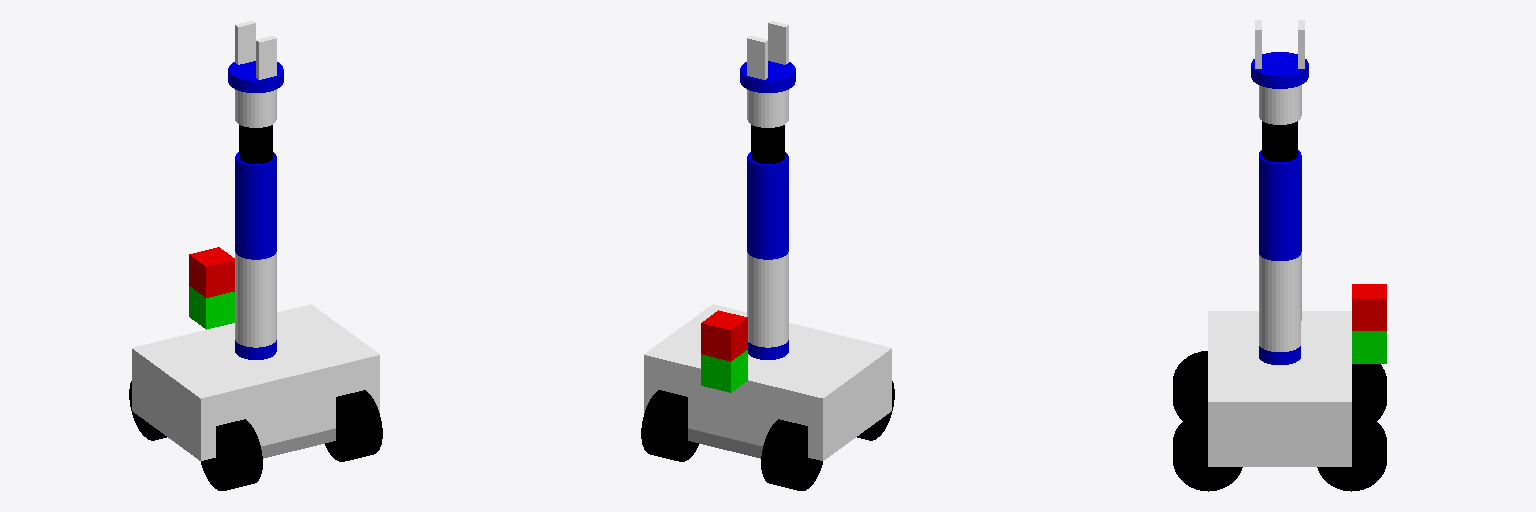
--- Facts derived from the render (not from the file) ---
The picture shows the robot from 3 angles, left to right: view 1: azimuth 30°, elevation 25°; view 2: azimuth 150°, elevation 25°; view 3: azimuth 270°, elevation 25°; orthographic projection.
Model marm with 20 links and 19 joints (6 revolute, 2 prismatic, 11 fixed), rooted at base_link, posed all joints at 0.
Visible links, largest first — view 1: base_link, link3, link2, wheel_4, wheel_3, camera_link1, imu_link, link5, link4, link6, bottom_link, gripper_finger_link1 (+2 smaller); view 2: base_link, link3, link2, wheel_2, wheel_1, camera_link1, imu_link, link5, link4, link6, bottom_link, gripper_finger_link2 (+1 smaller); view 3: base_link, link3, link2, wheel_1, wheel_3, wheel_4, wheel_2, link6, camera_link1, link5, link4, imu_link (+1 smaller).
Link boxes in pixels (box(x1,y1,x2,y2)): base_link: box(132, 304, 379, 460); link3: box(235, 152, 276, 259); link2: box(235, 252, 276, 347); wheel_4: box(201, 419, 262, 490); wheel_3: box(325, 390, 382, 461); camera_link1: box(189, 247, 234, 297); imu_link: box(189, 286, 234, 329); link5: box(235, 89, 276, 127); link4: box(239, 125, 272, 163); link6: box(228, 61, 283, 92); bottom_link: box(261, 428, 335, 458); gripper_finger_link1: box(235, 21, 255, 64); base_link: box(644, 304, 891, 460); link3: box(747, 152, 788, 259); link2: box(747, 252, 788, 347); wheel_2: box(761, 419, 822, 490); wheel_1: box(641, 390, 698, 461); camera_link1: box(701, 310, 747, 361); imu_link: box(701, 350, 747, 392); link5: box(747, 90, 788, 127); link4: box(751, 125, 784, 163); link6: box(740, 61, 795, 92); bottom_link: box(688, 428, 762, 458); gripper_finger_link2: box(768, 21, 788, 64); base_link: box(1208, 311, 1351, 466); link3: box(1259, 150, 1301, 260); link2: box(1259, 252, 1301, 351); wheel_1: box(1317, 412, 1386, 491); wheel_3: box(1173, 412, 1242, 491); wheel_4: box(1173, 351, 1207, 420); wheel_2: box(1352, 364, 1386, 420); link6: box(1251, 52, 1308, 88); camera_link1: box(1352, 284, 1386, 330); link5: box(1259, 85, 1301, 124); link4: box(1262, 121, 1297, 161); imu_link: box(1352, 331, 1386, 363).
Bounding box of the posed robot: 0.3002 × 0.3 × 0.66 m (x, y, z).
Meshes: 2 distinct files referenced, 0 mesh visuals loaded (none loaded); not drawn: 2 (reference not matched to a file when rendering).

robot.urdf — marm:
<?xml version="1.0" ?>
<robot name="marm">
    <!-- /////////////////////////////////////    Wheel    ///////////////////////////////////////////// -->
    <link name="wheel_1">
        <visual>
            <geometry>
                <cylinder length="0.05" radius="0.05" />
            </geometry>
            <origin rpy="0 1.57 0" xyz="0.1 0.1 0" />
            <material name="black">
                <color rgba="0 0 0 1" />
            </material>
        </visual>
    </link>
    <link name="wheel_2">
        <visual>
            <geometry>
                <cylinder length="0.05" radius="0.05" />
            </geometry>
            <origin rpy="0 1.57 0" xyz="-0.1 0.1 0" />
            <material name="black">
                <color rgba="0 0 0 1" />
            </material>
        </visual>
    </link>
    <link name="wheel_3">
        <visual>
            <geometry>
                <cylinder length="0.05" radius="0.05" />
            </geometry>
            <origin rpy="0 1.57 0" xyz="0.1 -0.1 0" />
            <material name="black">
                <color rgba="0 0 0 1" />
            </material>
        </visual>
    </link>
    <link name="wheel_4">
        <visual>
            <geometry>
                <cylinder length="0.05" radius="0.05" />
            </geometry>
            <origin rpy="0 1.57 0" xyz="-0.1 -0.1 0" />
            <material name="black">
                <color rgba="0 0 0 1" />
            </material>
        </visual>
    </link>
    <joint name="base_to_wheel1" type="fixed">
        <parent link="base_link" />
        <child link="wheel_1" />
        <origin xyz="0 0 0" />
    </joint>
    <joint name="base_to_wheel2" type="fixed">
        <parent link="base_link" />
        <child link="wheel_2" />
        <origin xyz="0 0 0" />
    </joint>
    <joint name="base_to_wheel3" type="fixed">
        <parent link="base_link" />
        <child link="wheel_3" />
        <origin xyz="0 0 0" />
    </joint>
    <joint name="base_to_wheel4" type="fixed">
        <parent link="base_link" />
        <child link="wheel_4" />
        <origin xyz="0 0 0" />
    </joint>
    <!--<link name="dummy" />
    <joint name="dummy_joint" type="fixed">
        <parent link="dummy" />
        <child link="base_link" />
    </joint>-->
    <!-- IMU joint -->
    <joint name="imu_joint" type="fixed">
        <axis xyz="0 1 0" />
        <origin xyz="0 0.125 0.125" rpy="0 0 0" />
        <parent link="base_link" />
        <child link="imu_link" />
    </joint>
    <!-- IMU -->
    <link name="imu_link">
        <collision>
            <origin xyz="0 0 0" rpy="0 0 0" />
            <geometry>
                <box size="0.05 0.05 0.05" />
            </geometry>
        </collision>
        <visual>
            <origin xyz="0 0 0" rpy="0 0 0" />
            <geometry>
                <box size="0.05 0.05 0.05" />
            </geometry>
            <material name="green">
                <color rgba="0 1 0 1" />
            </material>
        </visual>
        
<inertial>
            <mass value="1e-2" />
            <origin xyz="0 0 0" rpy="0 0 0" />
            <inertia ixx="1e-6" ixy="0" ixz="0" iyy="1e-6" iyz="0" izz="1e-6" />
        </inertial>

    </link>
    <!-- IMU -->
    <!-- Camera joint -->
    <joint name="camera_joint1" type="fixed">
        <axis xyz="0 1 0" />
        <origin xyz="0 0.125 0.175" rpy="0 0 0" />
        <parent link="base_link" />
        <child link="camera_link1" />
    </joint>
    <!-- Camera -->
    <link name="camera_link1">
        <collision>
            <origin xyz="0 0 0" rpy="0 0 0" />
            <geometry>
                <box size="0.05 0.05 0.05" />
            </geometry>
        </collision>
        <visual>
            <origin xyz="0 0 0" rpy="0 0 0" />
            <geometry>
                <box size="0.05 0.05 0.05" />
            </geometry>
            <material name="red">
                <color rgba="1 0 0 1" />
            </material>
        </visual>
        
<inertial>
            <mass value="1e-2" />
            <origin xyz="0 0 0" rpy="0 0 0" />
            <inertia ixx="1e-6" ixy="0" ixz="0" iyy="1e-6" iyz="0" izz="1e-6" />
        </inertial>

    </link>
    <!-- camera -->
    <!-- Hokuyo joint -->
    <joint name="hokuyo_joint" type="fixed">
        <origin xyz="0 0.125 0.225" rpy="0 0 0" />
        <parent link="base_link" />
        <axis xyz="0 1 0" />
        <child link="laser_frame" />
    </joint>
    <!-- Hokuyo Laser -->
    <link name="laser_frame">
        <collision>
            <origin xyz="0 0 0" rpy="0 0 0" />
            <geometry>
                <box size="0.05 0.05 0.05" />
            </geometry>
        </collision>
        <visual>
            <origin xyz="0 0 0" rpy="0 0 0" />
            <geometry>
                <mesh filename="package://marm_description/meshes/hokuyo.dae" />
            </geometry>
        </visual>
        
<inertial>
            <mass value="1e-2" />
            <origin xyz="0 0 0" rpy="0 0 0" />
            <inertia ixx="1e-6" ixy="0" ixz="0" iyy="1e-6" iyz="0" izz="1e-6" />
        </inertial>

    </link>
    <!-- hokuyo -->
    <!-- gazebo插件设置相关 -->
    
    <gazebo reference="wheel_1">
        <material>Gazebo/Red</material>
    </gazebo>
    <gazebo reference="wheel_2">
        <material>Gazebo/Black</material>
    </gazebo>
    <gazebo reference="wheel_3">
        <material>Gazebo/Red</material>
    </gazebo>
    <gazebo reference="wheel_4">
        <material>Gazebo/Black</material>
    </gazebo>
    <!-- ros_control plugin -->
    <!--   <gazebo>
    <plugin name="gazebo_ros_control" filename="libgazebo_ros_control.so">
      <robotNamespace>/robot</robotNamespace>
       <legacyModeNS> true </legacyModeNS>   
    </plugin>
  </gazebo> -->
    <!-- camera_link -->
    <gazebo reference="camera_link1">
        <material>Gazebo/Red</material>
    </gazebo>
    <!-- hokuyo -->
    <gazebo reference="laser_frame">
        <sensor type="ray" name="head_hokuyo_sensor">
            <!-- <sensor type="gpu_ray" name="head_hokuyo_sensor">   -->
            <!-- GPU -->
            <pose>0 0 0 0 0 0</pose>
            <visualize>false</visualize>
            <update_rate>15</update_rate>
            <ray>
                <scan>
                    <horizontal>
                        <samples>720</samples>
                        <resolution>1</resolution>
                        <min_angle>-3.1415926</min_angle>
                        <max_angle>3.1415926</max_angle>
                    </horizontal>
                </scan>
                <range>
                    <min>0.05</min>
                    <max>30.0</max>
                    <resolution>0.01</resolution>
                </range>
                <noise>
                    <type>gaussian</type>
                    <!-- Noise parameters based on published spec for Hokuyo laser
               achieving "+-30mm" accuracy at range < 10m.  A mean of 0.0m and
               stddev of 0.01m will put 99.7% of samples within 0.03m of the true
               reading. -->
                    <mean>0.0</mean>
                    <stddev>0.01</stddev>
                </noise>
            </ray>
            <!-- GPU版本 -->
            <!-- <plugin name="gazebo_ros_head_hokuyo_controller" filename="libgazebo_ros_gpu_laser.so">  -->
            <plugin name="gazebo_ros_head_hokuyo_controller" filename="libgazebo_ros_laser.so">
                <topicName>scan</topicName>
                <frameName>laser_frame</frameName>
            </plugin>
        </sensor>
    </gazebo>
    <!-- camera -->
    <gazebo reference="camera_link1">
        <sensor type="camera" name="camera1">
            <update_rate>30.0</update_rate>
            <camera name="head">
                <horizontal_fov>1.3962634</horizontal_fov>
                <image>
                    <width>1920</width>
                    <height>1080</height>
                    <format>R8G8B8</format>
                </image>
                <clip>
                    <near>0.02</near>
                    <far>300</far>
                </clip>
                <noise>
                    <type>gaussian</type>
                    <!-- Noise is sampled independently per pixel on each frame.  
               That pixel's noise value is added to each of its color
               channels, which at that point lie in the range [0,1]. -->
                    <mean>0.0</mean>
                    <stddev>0.007</stddev>
                </noise>
            </camera>
            <plugin name="camera_controller" filename="libgazebo_ros_camera.so">
                <alwaysOn>true</alwaysOn>
                <updateRate>0.0</updateRate>
                <cameraName>/</cameraName>
                <imageTopicName>cam</imageTopicName>
                <cameraInfoTopicName>camera_info</cameraInfoTopicName>
                <frameName>camera_link1</frameName>
                <hackBaseline>0.07</hackBaseline>
                <distortionK1>0.0</distortionK1>
                <distortionK2>0.0</distortionK2>
                <distortionK3>0.0</distortionK3>
                <distortionT1>0.0</distortionT1>
                <distortionT2>0.0</distortionT2>
            </plugin>
        </sensor>
    </gazebo>
    <!-- Drive controller -->
    <gazebo>
        <plugin name="skid_steer_drive_controller" filename="libgazebo_ros_skid_steer_drive.so">
            <alwaysOn>true</alwaysOn>
            <updateRate>100.0</updateRate>
            <robotNamespace />
            <leftFrontJoint>base_to_wheel1</leftFrontJoint>
            <rightFrontJoint>base_to_wheel3</rightFrontJoint>
            <leftRearJoint>base_to_wheel2</leftRearJoint>
            <rightRearJoint>base_to_wheel4</rightRearJoint>
            <wheelSeparation>0.26</wheelSeparation>
            <wheelDiameter>0.12</wheelDiameter>
            <torque>2</torque>
            <commandTopic>cmd_vel</commandTopic>
            <odometryTopic>odom</odometryTopic>
            <odometryFrame>odom</odometryFrame>
            <robotBaseFrame>base_link</robotBaseFrame>
            <broadcastTF>1</broadcastTF>
        </plugin>
    </gazebo>
    <!-- imu控制 -->

   <gazebo reference="imu_link">
        <material>Gazebo/Orange</material>
        <gravity>true</gravity>
        <sensor name="imu_sensor" type="imu">
            <always_on>true</always_on>
            <update_rate>100</update_rate>
            <visualize>true</visualize>
            <topic>__default_topic__</topic>
            <plugin filename="libgazebo_ros_imu_sensor.so" name="imu_plugin">
                <topicName>imu</topicName>
                <bodyName>imu_link</bodyName>
                <updateRateHZ>100.0</updateRateHZ>
                <gaussianNoise>0.0</gaussianNoise>
                <xyzOffset>0 0 0</xyzOffset>
                <rpyOffset>0 0 0</rpyOffset>
                <frameName>imu_link</frameName>
            </plugin>
            <pose>0 0 0 0 0 0</pose>
        </sensor>
    </gazebo>

 <!-- /////////////////////////////////////    COLOR    ///////////////////////////////////////////// -->
    <material name="Black">
        <color rgba="0 0 0 1" />
    </material>
    <material name="White">
        <color rgba="1 1 1 1" />
    </material>
    <material name="Blue">
        <color rgba="0 0 1 1" />
    </material>
    <material name="Red">
        <color rgba="1 0 0 1" />
    </material>
    <joint name="bottom_joint" type="fixed">
        <origin xyz="0 0 0" rpy="0 0 0" />
        <parent link="base_link" />
        <child link="bottom_link" />
    </joint>
    <link name="bottom_link">
        <visual>
            <origin xyz=" 0 0 -0.01" rpy="0 0 0" />
            <geometry>
                <box size="0.2 0.2 0.02" />
            </geometry>
            <material name="Brown" />
        </visual>
        <collision>
            <origin xyz=" 0 0 -0.01" rpy="0 0 0" />
            <geometry>
                <box size="0.2 0.2 0.02" />
            </geometry>
        </collision>
        <inertial>
            <mass value="50" />
            <inertia ixx="1.0" ixy="0.0" ixz="0.0" iyy="0.5" iyz="0.0" izz="1.0" />
        </inertial>

    </link>
    <!-- /////////////////////////////////////    BASE    ///////////////////////////////////////////// -->
    <link name="base_link">
        <visual>
            <origin rpy="0 0 1.57" xyz="0 0 0.05" />
            <geometry>
                <box size="0.2 .3 .1"/>
            </geometry>
            <material name="White" />
        </visual>
        <collision>
            <origin rpy="0 0 1.57" xyz="0 0 0.05" />
            <geometry>
                <box size="0.2 .3 0.1"/>
            </geometry>
        </collision>
        <inertial>
            <mass value="8.2" />
            <!--inertia ixx="0.03" iyy="0.03" izz="0.03" ixy="0.0" ixz="0.0" iyz="0.0" /-->
            <inertia ixx="0.01" ixy="0.0" 
                                ixz="0.0"
                                iyy="0.01" iyz="0.0"
                                izz="0.01" />
        </inertial>
    </link>
    
    <!-- /////////////////////////////////////   LINK1  ////////////////////////////////////////////// -->
    <link name="link1">
        <visual>
            <origin rpy="0 1.5707 0" xyz="-0.05 0 0" />
            <geometry>
                <cylinder length="0.1" radius="0.03" />
            </geometry>
            <material name="Blue" />
        </visual>
        <collision>
            <origin rpy="0 1.5707 0" xyz="-0.05 0 0" />
            <geometry>
                <cylinder length="0.1" radius="0.03" />
            </geometry>
        </collision>
        
<inertial>
            <mass value="0.1" />
            <inertia ixx="0.03" iyy="0.03" izz="0.03" ixy="0.0" ixz="0.0" iyz="0.0" />
        </inertial>

    </link>
    <joint name="joint1" type="revolute">
        <parent link="base_link" />
        <child link="link1" />
        <origin rpy="0 1.5707 0" xyz="0 0 0.02" />
        <axis xyz="-1 0 0" />
        <limit effort="300" lower="-3.14159" upper="3.14159" velocity="1" />
    </joint>
    <!-- ///////////////////////////////////////   LINK2  ////////////////////////////////////////////// -->
    <link name="link2">
        <visual>
            <origin rpy="0 0 0" xyz="0 0 0.07" />
            <geometry>
                <cylinder length="0.14" radius="0.03" />
            </geometry>
            <material name="White" />
        </visual>
        <collision>
            <origin rpy="0 0 0" xyz="0 0 0.07" />
            <geometry>
                <cylinder length="0.14" radius="0.03" />
            </geometry>
        </collision>
        
<inertial>
            <mass value="0.1" />
            <inertia ixx="0.03" iyy="0.03" izz="0.03" ixy="0.0" ixz="0.0" iyz="0.0" />
        </inertial>

    </link>
    <joint name="joint2" type="revolute">
        <parent link="link1" />
        <child link="link2" />
        <origin rpy="-1.5707 0 1.5707" xyz="-0.1 0 0.0" />
        <axis xyz="1 0 0" />
        <limit effort="300" lower="-3.14159" upper="3.14159" velocity="1" />
    </joint>
    <!-- /////////////////////////////////   LINK3  ///////////////////////////////////////////////////// -->
    <link name="link3">
        <visual>
            <origin rpy="0 0 0" xyz="0 0 -0.075" />
            <geometry>
                <cylinder length="0.15" radius="0.03" />
            </geometry>
            <material name="Blue" />
        </visual>
        <collision>
            <origin rpy="0 0 0" xyz="0 0 -0.075" />
            <geometry>
                <cylinder length="0.15" radius="0.03" />
            </geometry>
        </collision>
        
<inertial>
            <mass value="0.1" />
            <inertia ixx="0.03" iyy="0.03" izz="0.03" ixy="0.0" ixz="0.0" iyz="0.0" />
        </inertial>

    </link>
    <joint name="joint3" type="revolute">
        <parent link="link2" />
        <child link="link3" />
        <origin rpy="0 3.14159 0" xyz="0 0 0.14" />
        <axis xyz="-1 0 0" />
        <limit effort="300" lower="-3.14159" upper="3.14159" velocity="1" />
    </joint>
    <!-- ///////////////////////////////////   LINK4  //////////////////////////////////////////////// -->
    <link name="link4">
        <visual>
            <origin rpy="0 1.5707 0" xyz="0.03 0 0" />
            <geometry>
                <cylinder length="0.06" radius="0.025" />
            </geometry>
            <material name="Black" />
        </visual>
        <collision>
            <origin rpy="0 1.5707 0" xyz="0.03 0 0" />
            <geometry>
                <cylinder length="0.06" radius="0.025" />
            </geometry>
        </collision>
        
<inertial>
            <mass value="0.1" />
            <inertia ixx="0.03" iyy="0.03" izz="0.03" ixy="0.0" ixz="0.0" iyz="0.0" />
        </inertial>

    </link>
    <joint name="joint4" type="revolute">
        <parent link="link3" />
        <child link="link4" />
        <origin rpy="0 1.5707 3.14159" xyz="0.0 0.0 -0.15" />
        <axis xyz="1 0 0" />
        <limit effort="300" lower="-3.14159" upper="3.14159" velocity="1" />
    </joint>
    <!-- //////////////////////////////////   LINK5  ///////////////////////////////////////////////// -->
    <link name="link5">
        <visual>
            <origin rpy="0 0 0" xyz="0 0 0.03" />
            <geometry>
                <cylinder length="0.06" radius="0.03" />
            </geometry>
            <material name="White" />
        </visual>
        <collision>
            <origin rpy="0 0 0" xyz="0 0 0.03" />
            <geometry>
                <cylinder length="0.06" radius="0.03" />
            </geometry>
        </collision>
        
<inertial>
            <mass value="0.1" />
            <inertia ixx="0.03" iyy="0.03" izz="0.03" ixy="0.0" ixz="0.0" iyz="0.0" />
        </inertial>

    </link>
    <joint name="joint5" type="revolute">
        <parent link="link4" />
        <child link="link5" />
        <origin rpy="0 1.5707 0" xyz="0.06 0.0 0.0" />
        <axis xyz="1 0 0" />
        <limit effort="300" lower="-3.14159" upper="3.14159" velocity="1" />
    </joint>
    <!-- ////////////////////////////////   LINK6  ///////////////////////////////////////////////// -->
    <link name="link6">
        <visual>
            <origin rpy="0 1.5707 0" xyz="0.01 0 0 " />
            <geometry>
                <cylinder length="0.02" radius="0.04" />
            </geometry>
            <material name="Blue" />
        </visual>
        <collision>
            <origin rpy="0 1.5707 0" xyz="0.01 0 0 " />
            <geometry>
                <cylinder length="0.02" radius="0.04" />
            </geometry>
        </collision>
        
<inertial>
            <mass value="0.1" />
            <inertia ixx="0.03" iyy="0.03" izz="0.03" ixy="0.0" ixz="0.0" iyz="0.0" />
        </inertial>

    </link>
    <joint name="joint6" type="revolute">
        <parent link="link5" />
        <child link="link6" />
        <origin rpy="4.712385 -1.5707 0" xyz="0 0 0.06" />
        <axis xyz="1 0 0" />
        <limit effort="300" lower="-6.28318" upper="6.28318" velocity="1" />
    </joint>
    <!-- //////////////////////////////////////   GRIPPER   ////////////////////////////////////////////// -->
    <link name="gripper_finger_link1">
        <visual>
            <origin rpy="0 1.5707 0" xyz="0.03 0 0" />
            <geometry>
                <box size="0.03 0.01 0.06" />
            </geometry>
            <material name="White" />
        </visual>
        <collision>
            <origin rpy="0 1.5707 0" xyz="0.03 0 0" />
            <geometry>
                <box size="0.03 0.01 0.06" />
            </geometry>
        </collision>
        
<inertial>
            <mass value="0.1" />
            <inertia ixx="0.03" iyy="0.03" izz="0.03" ixy="0.0" ixz="0.0" iyz="0.0" />
        </inertial>

    </link>
    <link name="gripper_finger_link2">
        <visual>
            <origin rpy="0 1.5707 0" xyz="0.03 0 0" />
            <geometry>
                <box size="0.03 0.01 0.06" />
            </geometry>
            <material name="White" />
        </visual>
        <collision>
            <origin rpy="0 1.5707 0" xyz="0.03 0 0" />
            <geometry>
                <box size="0.03 0.01 0.06" />
            </geometry>
        </collision>
        
<inertial>
            <mass value="0.1" />
            <inertia ixx="0.03" iyy="0.03" izz="0.03" ixy="0.0" ixz="0.0" iyz="0.0" />
        </inertial>

    </link>
    <joint name="finger_joint1" type="prismatic">
        <parent link="link6" />
        <child link="gripper_finger_link1" />
        <origin rpy="0 0 0" xyz="0.02 -0.03 0" />
        <axis xyz="0 1 0" />
        <limit effort="100" lower="0" upper="0.03" velocity="0.02" />
    </joint>
    <joint name="finger_joint2" type="prismatic">
        <parent link="link6" />
        <child link="gripper_finger_link2" />
        <origin rpy="0 0 0" xyz="0.02 0.03 0" />
        <axis xyz="0 -1 0" />
        <limit effort="100" lower="0" upper="0.03" velocity="0.02" />
    </joint>
    <!-- //////////////////////////////////////   GRASPING FRAME   ////////////////////////////////////////////// -->
    <link name="grasping_frame" />
    <joint name="grasping_frame_joint" type="fixed">
        <parent link="link6" />
        <child link="grasping_frame" />
        <origin rpy="0 0 0" xyz="0.06 0 0" />
    </joint>
    <joint name="kinect_joint" type="fixed">
        <origin xyz="0.1 0 0.8" rpy="0 1.308996939 0" />
        <parent link="base_link" />
        <child link="camera_link" />
    </joint>
    <link name="camera_link">
        <origin xyz="0 0 0" rpy="0 0 0" />
        <visual>
            <origin xyz="0 0 0" rpy="0 0 1.5708" />
            <geometry>
                <mesh filename="package://marm_description/meshes/kinect.dae" />
            </geometry>
        </visual>
        <collision>
            <geometry>
                <box size="0.07 0.3 0.09" />
            </geometry>
        </collision>
        
<inertial>
            <mass value="0.1" />
            <inertia ixx="0.03" iyy="0.03" izz="0.03" ixy="0.0" ixz="0.0" iyz="0.0" />
        </inertial>

    </link>
    <joint name="camera_optical_joint" type="fixed">
        <origin xyz="0 0 0" rpy="-1.5708 0 -1.5708" />
        <parent link="camera_link" />
        <child link="camera_frame_optical" />
    </joint>
    <link name="camera_frame_optical" />
    <gazebo reference="camera_link">
        <sensor type="depth" name="camera">
            <always_on>true</always_on>
            <update_rate>20.0</update_rate>
            <camera>
                <horizontal_fov>1.047</horizontal_fov>
                <image>
                    <format>R8G8B8</format>
                    <width>640</width>
                    <height>480</height>
                </image>
                <clip>
                    <near>0.05</near>
                    <far>8.0</far>
                </clip>
            </camera>
            <plugin name="kinect_camera_controller" filename="libgazebo_ros_openni_kinect.so">
                <cameraName>camera</cameraName>
                <alwaysOn>true</alwaysOn>
                <updateRate>10</updateRate>
                <imageTopicName>rgb/image_raw</imageTopicName>
                <depthImageTopicName>depth/image_raw</depthImageTopicName>
                <pointCloudTopicName>depth/points</pointCloudTopicName>
                <cameraInfoTopicName>rgb/camera_info</cameraInfoTopicName>
                <depthImageCameraInfoTopicName>depth/camera_info</depthImageCameraInfoTopicName>
                <frameName>camera_frame_optical</frameName>
                <baseline>0.1</baseline>
                <distortion_k1>0.0</distortion_k1>
                <distortion_k2>0.0</distortion_k2>
                <distortion_k3>0.0</distortion_k3>
                <distortion_t1>0.0</distortion_t1>
                <distortion_t2>0.0</distortion_t2>
                <pointCloudCutoff>0.4</pointCloudCutoff>
            </plugin>
        </sensor>
    </gazebo>
    <!-- /////////////////////////////////   Gazebo   ////////////////////////////////////// -->
    <gazebo reference="bottom_link">
        <material>Gazebo/White</material>
    </gazebo>
    <gazebo reference="base_link">
        <material>Gazebo/White</material>
    </gazebo>
    <gazebo reference="link1">
        <material>Gazebo/Blue</material>
    </gazebo>
    <gazebo reference="link2">
        <material>Gazebo/White</material>
    </gazebo>
    <gazebo reference="link3">
        <material>Gazebo/Blue</material>
    </gazebo>
    <gazebo reference="link4">
        <material>Gazebo/Black</material>
    </gazebo>
    <gazebo reference="link5">
        <material>Gazebo/White</material>
    </gazebo>
    <gazebo reference="link6">
        <material>Gazebo/Blue</material>
    </gazebo>
    <gazebo reference="gripper_finger_link1">
        <material>Gazebo/White</material>
    </gazebo>
    <gazebo reference="gripper_finger_link2">
        <material>Gazebo/White</material>
    </gazebo>
    

    <transmission name="trans_joint1">
        <type>transmission_interface/SimpleTransmission</type>
        <joint name="joint1">
            <hardwareInterface>hardware_interface/PositionJointInterface</hardwareInterface>
        </joint>
        <actuator name="joint1_motor">
            <hardwareInterface>hardware_interface/PositionJointInterface</hardwareInterface>
            <mechanicalReduction>1</mechanicalReduction>
        </actuator>
    </transmission>
    <transmission name="trans_joint2">
        <type>transmission_interface/SimpleTransmission</type>
        <joint name="joint2">
            <hardwareInterface>hardware_interface/PositionJointInterface</hardwareInterface>
        </joint>
        <actuator name="joint2_motor">
            <hardwareInterface>hardware_interface/PositionJointInterface</hardwareInterface>
            <mechanicalReduction>1</mechanicalReduction>
        </actuator>
    </transmission>
    <transmission name="trans_joint3">
        <type>transmission_interface/SimpleTransmission</type>
        <joint name="joint3">
            <hardwareInterface>hardware_interface/PositionJointInterface</hardwareInterface>
        </joint>
        <actuator name="joint3_motor">
            <hardwareInterface>hardware_interface/PositionJointInterface</hardwareInterface>
            <mechanicalReduction>1</mechanicalReduction>
        </actuator>
    </transmission>
    <transmission name="trans_joint4">
        <type>transmission_interface/SimpleTransmission</type>
        <joint name="joint4">
            <hardwareInterface>hardware_interface/PositionJointInterface</hardwareInterface>
        </joint>
        <actuator name="joint4_motor">
            <hardwareInterface>hardware_interface/PositionJointInterface</hardwareInterface>
            <mechanicalReduction>1</mechanicalReduction>
        </actuator>
    </transmission>
    <transmission name="trans_joint5">
        <type>transmission_interface/SimpleTransmission</type>
        <joint name="joint5">
            <hardwareInterface>hardware_interface/PositionJointInterface</hardwareInterface>
        </joint>
        <actuator name="joint5_motor">
            <hardwareInterface>hardware_interface/PositionJointInterface</hardwareInterface>
            <mechanicalReduction>1</mechanicalReduction>
        </actuator>
    </transmission>
    <transmission name="trans_joint6">
        <type>transmission_interface/SimpleTransmission</type>
        <joint name="joint6">
            <hardwareInterface>hardware_interface/PositionJointInterface</hardwareInterface>
        </joint>
        <actuator name="joint6_motor">
            <hardwareInterface>hardware_interface/PositionJointInterface</hardwareInterface>
            <mechanicalReduction>1</mechanicalReduction>
        </actuator>
    </transmission>
    <transmission name="trans_finger_joint1">
        <type>transmission_interface/SimpleTransmission</type>
        <joint name="finger_joint1">
            <hardwareInterface>hardware_interface/PositionJointInterface</hardwareInterface>
        </joint>
        <actuator name="finger_joint1_motor">
            <hardwareInterface>hardware_interface/PositionJointInterface</hardwareInterface>
            <mechanicalReduction>1</mechanicalReduction>
        </actuator>
    </transmission>
    <transmission name="trans_finger_joint2">
        <type>transmission_interface/SimpleTransmission</type>
        <joint name="finger_joint2">
            <hardwareInterface>hardware_interface/PositionJointInterface</hardwareInterface>
        </joint>
        <actuator name="finger_joint2_motor">
            <hardwareInterface>hardware_interface/PositionJointInterface</hardwareInterface>
            <mechanicalReduction>1</mechanicalReduction>
        </actuator>
    </transmission>
    <!--<gazebo>
        <plugin name="gazebo_ros_control" filename="libgazebo_ros_control.so">
            <robotNamespace>/</robotNamespace>
        </plugin>
    </gazebo>-->
</robot>
